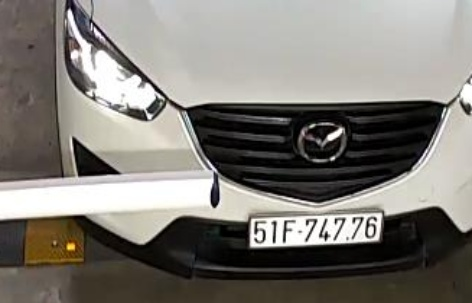plate: (243, 207, 386, 248)
